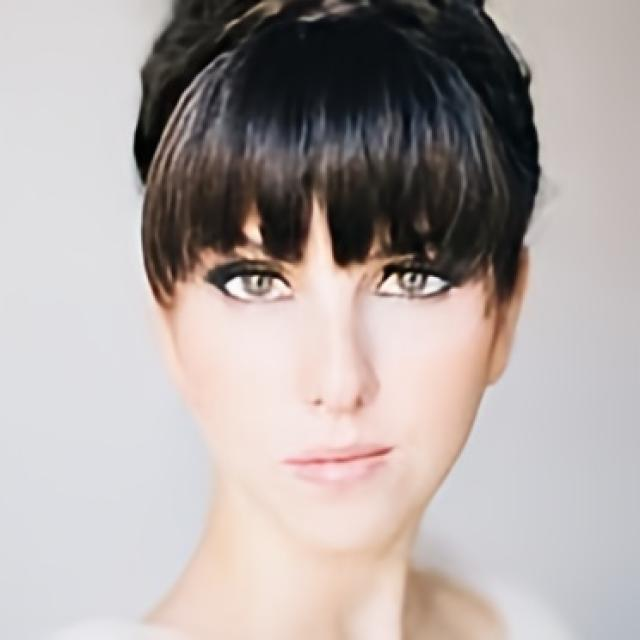content: (168, 117, 496, 552)
